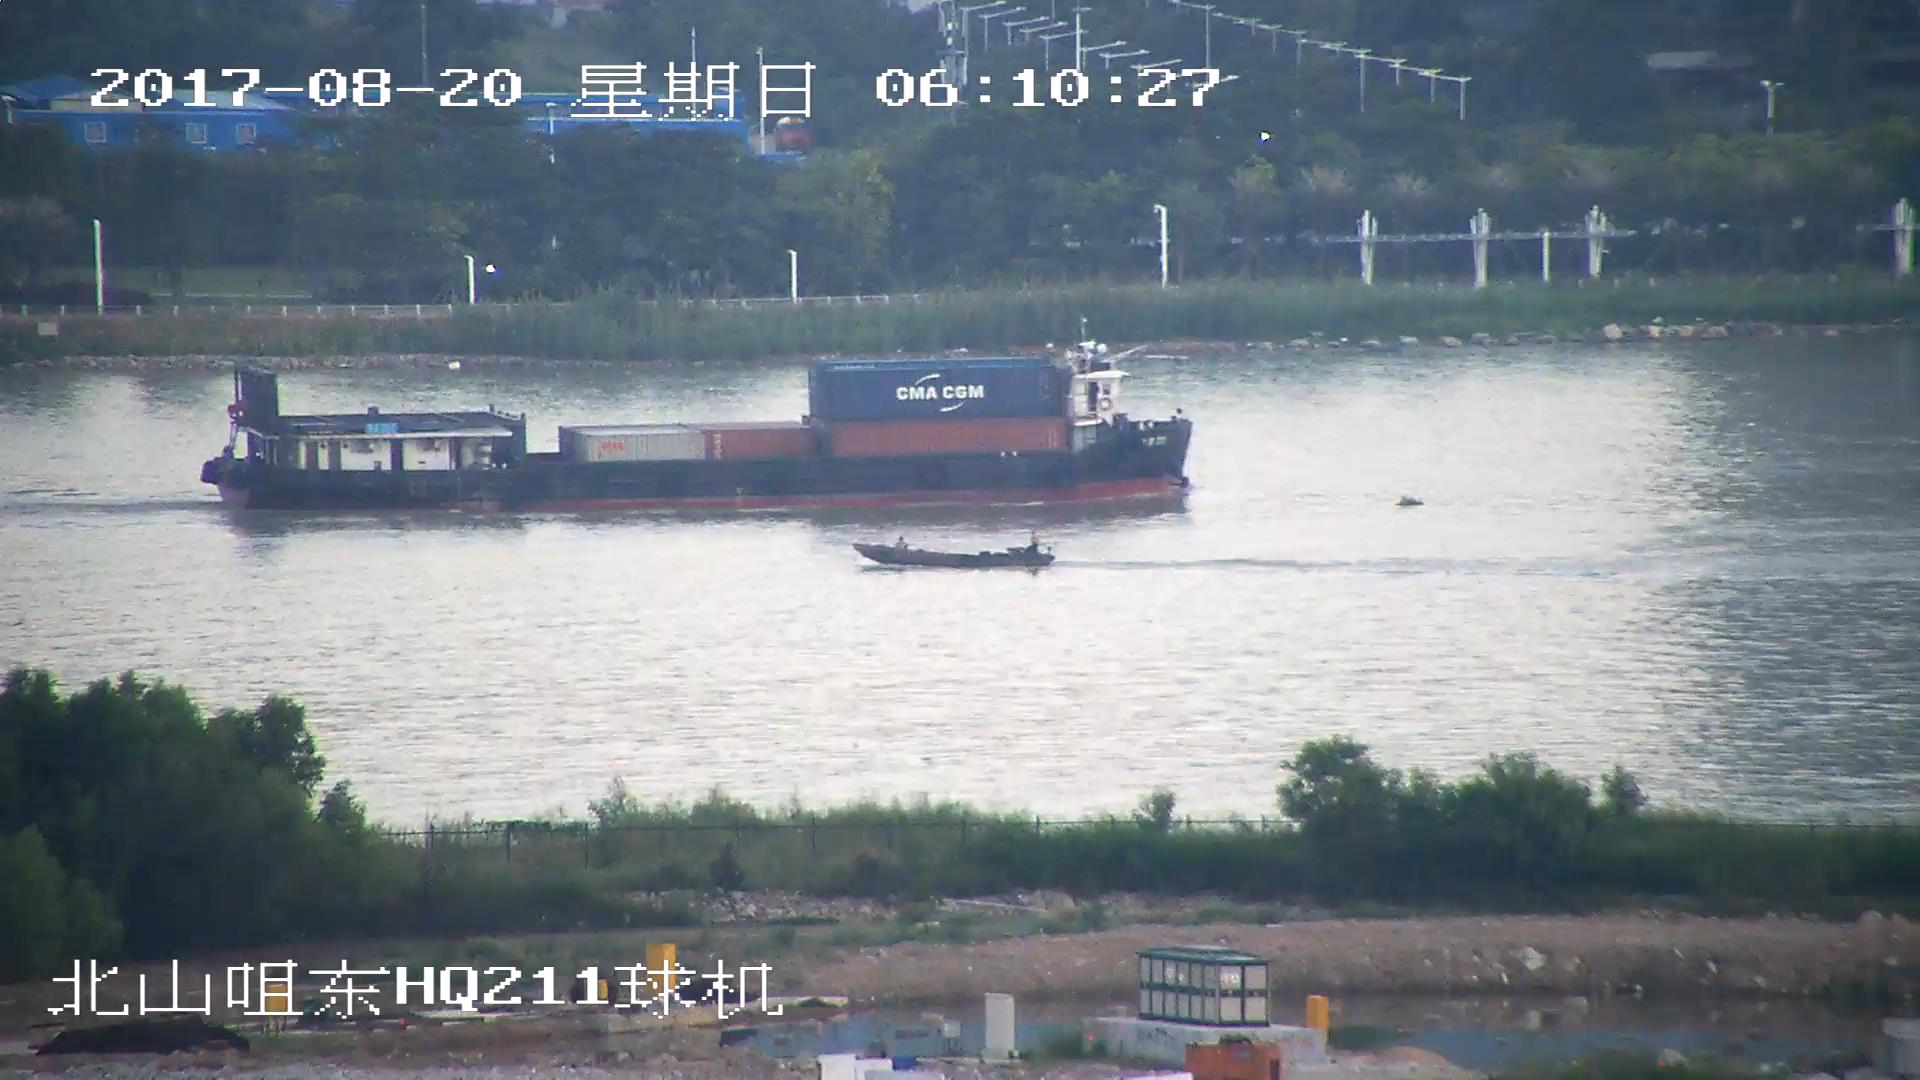container ship: (194, 335, 1197, 516)
fishing boat: (850, 533, 1059, 575)
